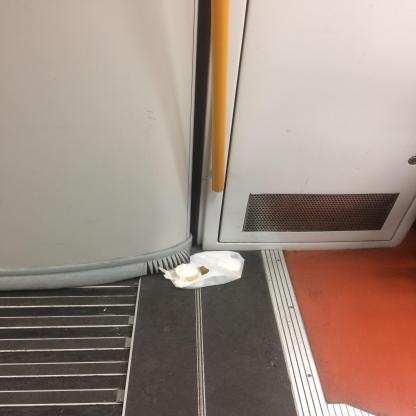plastik: (157, 250, 245, 290), (172, 264, 202, 283)
